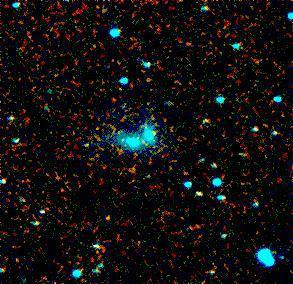star: (94, 208, 124, 238)
